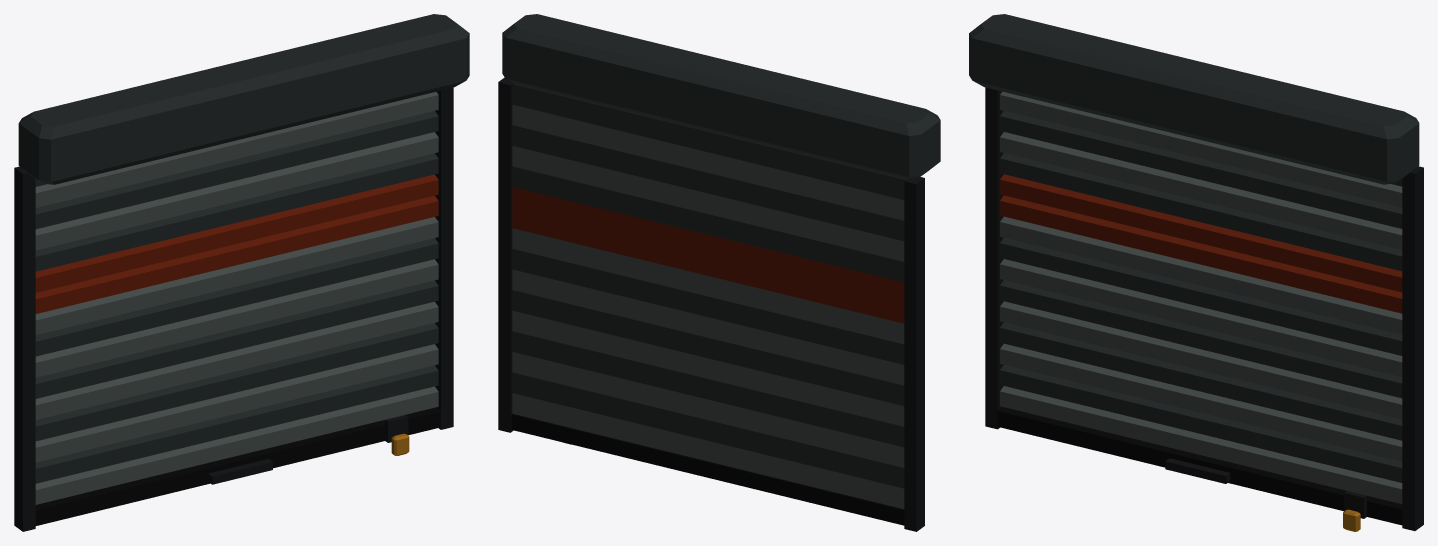
Rendered from SM_Shop_SecurityShutter_Window.glb.
The picture shows the model from 3 angles, left to right: view 1: azimuth 30°, elevation 25°; view 2: azimuth 150°, elevation 25°; view 3: azimuth 330°, elevation 25°; orthographic projection. The views are drawn at different scales.
Visible parts, largest first — view 1: SM_Shop_SecurityShutter_Window; view 2: SM_Shop_SecurityShutter_Window; view 3: SM_Shop_SecurityShutter_Window.
Boxes of the visible parts, x1,y1,x2,y2 form: SM_Shop_SecurityShutter_Window: [14, 14, 469, 531]; SM_Shop_SecurityShutter_Window: [498, 14, 940, 531]; SM_Shop_SecurityShutter_Window: [969, 14, 1423, 531].
Bounding box in the file's own units: 1.7 × 1.59 × 0.2.
Materials: 1 (1 with a texture image).
